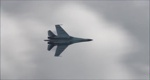maybay_muctieu: (45, 25, 95, 57)
